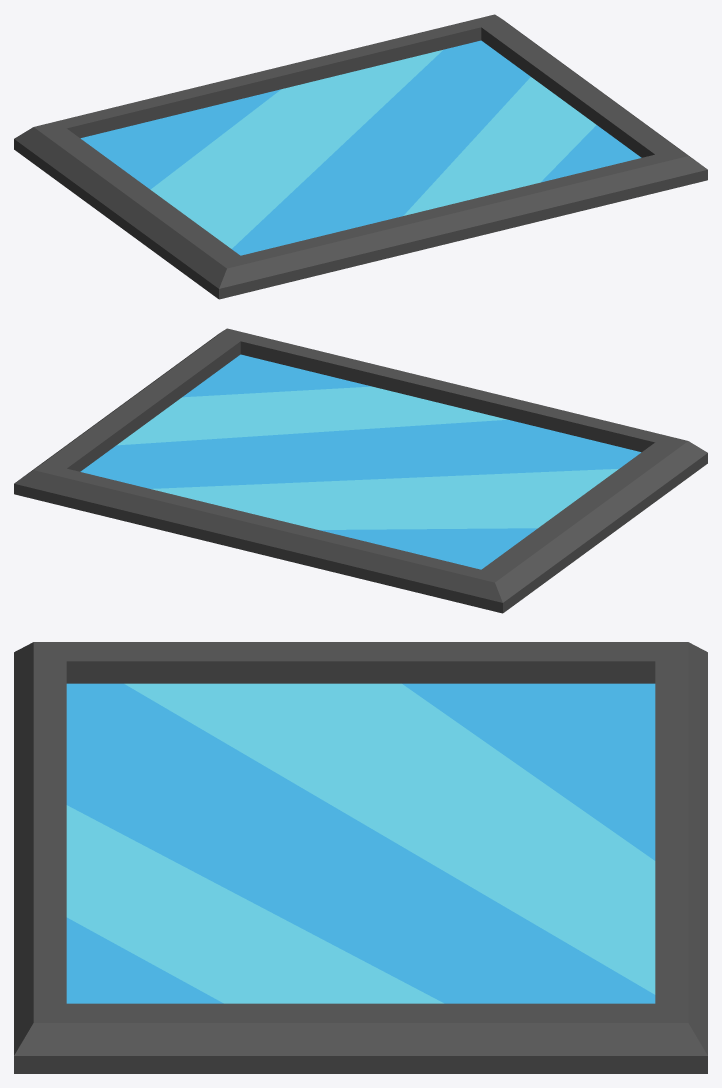
Rendered from Prop_RoofWindow_02.fbx.
3 renders of one model, top to bottom at view 1: azimuth 30°, elevation 25°; view 2: azimuth 150°, elevation 25°; view 3: azimuth 270°, elevation 25°, orthographic. The views are drawn at different scales.
Parts seen in each view (by area): view 1: Prop_RoofWindow_02; view 2: Prop_RoofWindow_02; view 3: Prop_RoofWindow_02.
Part boxes in pixels (x1,y1,x2,y2): Prop_RoofWindow_02: [14, 14, 707, 299]; Prop_RoofWindow_02: [14, 328, 707, 613]; Prop_RoofWindow_02: [14, 642, 707, 1073].
Size of the model in its own units: 138 by 6.28 by 100.
